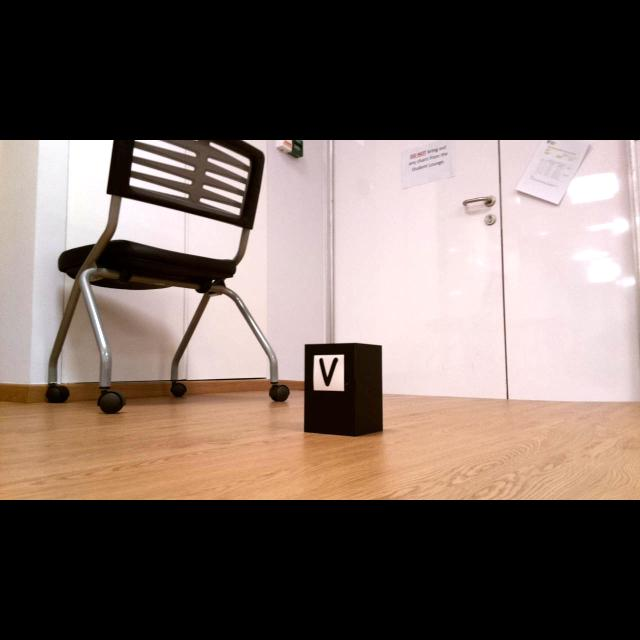V: (319, 357, 338, 387)
